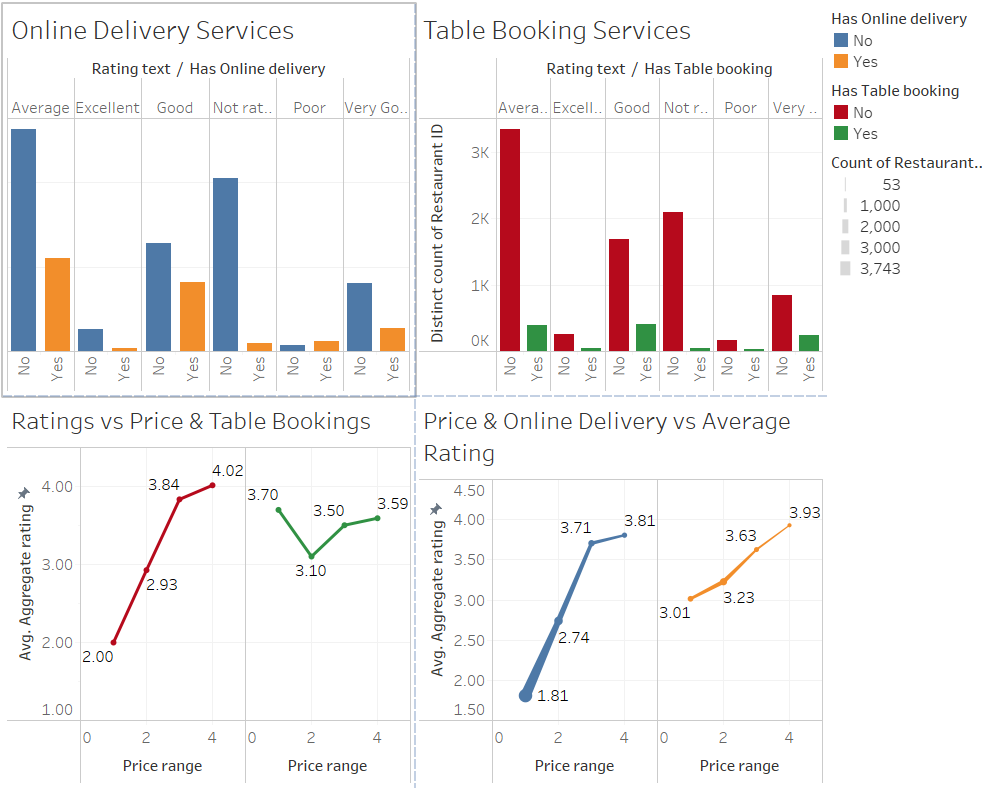

The dashboard page shown, as its layout file describes it:
{"tool":"tableau","page":{"name":"Dashboard 3","canvas":[1000,800],"ordinal":2},"visuals":[{"type":"worksheet","title":"Online Delivery Services","mark":"Automatic","rows":["Restaurant ID"],"cols":["Rating text","Has Online delivery"],"box":[8,8,412,392]},{"type":"worksheet","title":"Table Booking Services","mark":"Automatic","rows":["Restaurant ID"],"cols":["Rating text","Has Table booking"],"box":[420,8,412,392]},{"type":"legend","title":"Online Delivery Services","param":"[federated.0frcwyd0izt63613m6qt016qtrcf].[none:Has Online delivery:nk]","box":[832,8,160,72]},{"type":"legend","title":"Table Booking Services","param":"[federated.0frcwyd0izt63613m6qt016qtrcf].[none:Has Table booking:nk]","box":[832,80,160,72]},{"type":"legend","title":"Aggregate Rating vs Price and Online Delivery","param":"[federated.0frcwyd0izt63613m6qt016qtrcf].[cnt:Restaurant Name:qk]","box":[832,152,160,135]},{"type":"worksheet","title":"Aggregate Rating vs Price and Table Booking","mark":"Automatic","rows":["Aggregate rating"],"cols":["Has Table booking","Price range"],"box":[8,400,412,392]},{"type":"worksheet","title":"Aggregate Rating vs Price and Online Delivery","mark":"Automatic","rows":["Aggregate rating"],"cols":["Has Online delivery","Price range"],"box":[420,400,412,392]}]}

Visuals, with their boxes in screenshot pixels (x1, y1, x2, y2), scaled from the page's 1000x800 canvas onto the 987x795 screenshot:
"Online Delivery Services" worksheet: x1=8, y1=8, x2=415, y2=398
"Table Booking Services" worksheet: x1=415, y1=8, x2=821, y2=398
"Online Delivery Services" legend: x1=821, y1=8, x2=979, y2=80
"Table Booking Services" legend: x1=821, y1=80, x2=979, y2=151
"Aggregate Rating vs Price and Online Delivery" legend: x1=821, y1=151, x2=979, y2=285
"Aggregate Rating vs Price and Table Booking" worksheet: x1=8, y1=398, x2=415, y2=787
"Aggregate Rating vs Price and Online Delivery" worksheet: x1=415, y1=398, x2=821, y2=787
